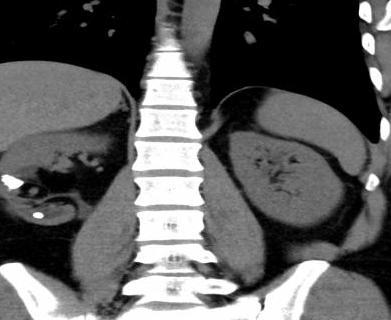Tas_Var: (0, 172, 26, 192), (32, 210, 46, 220)
